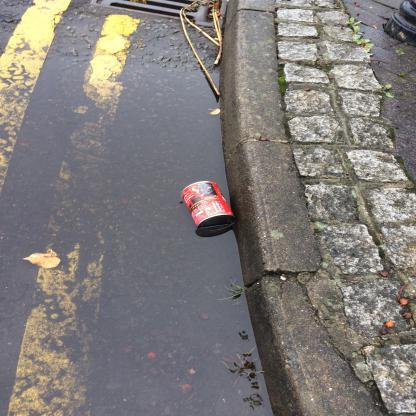metal: (181, 181, 237, 235)
